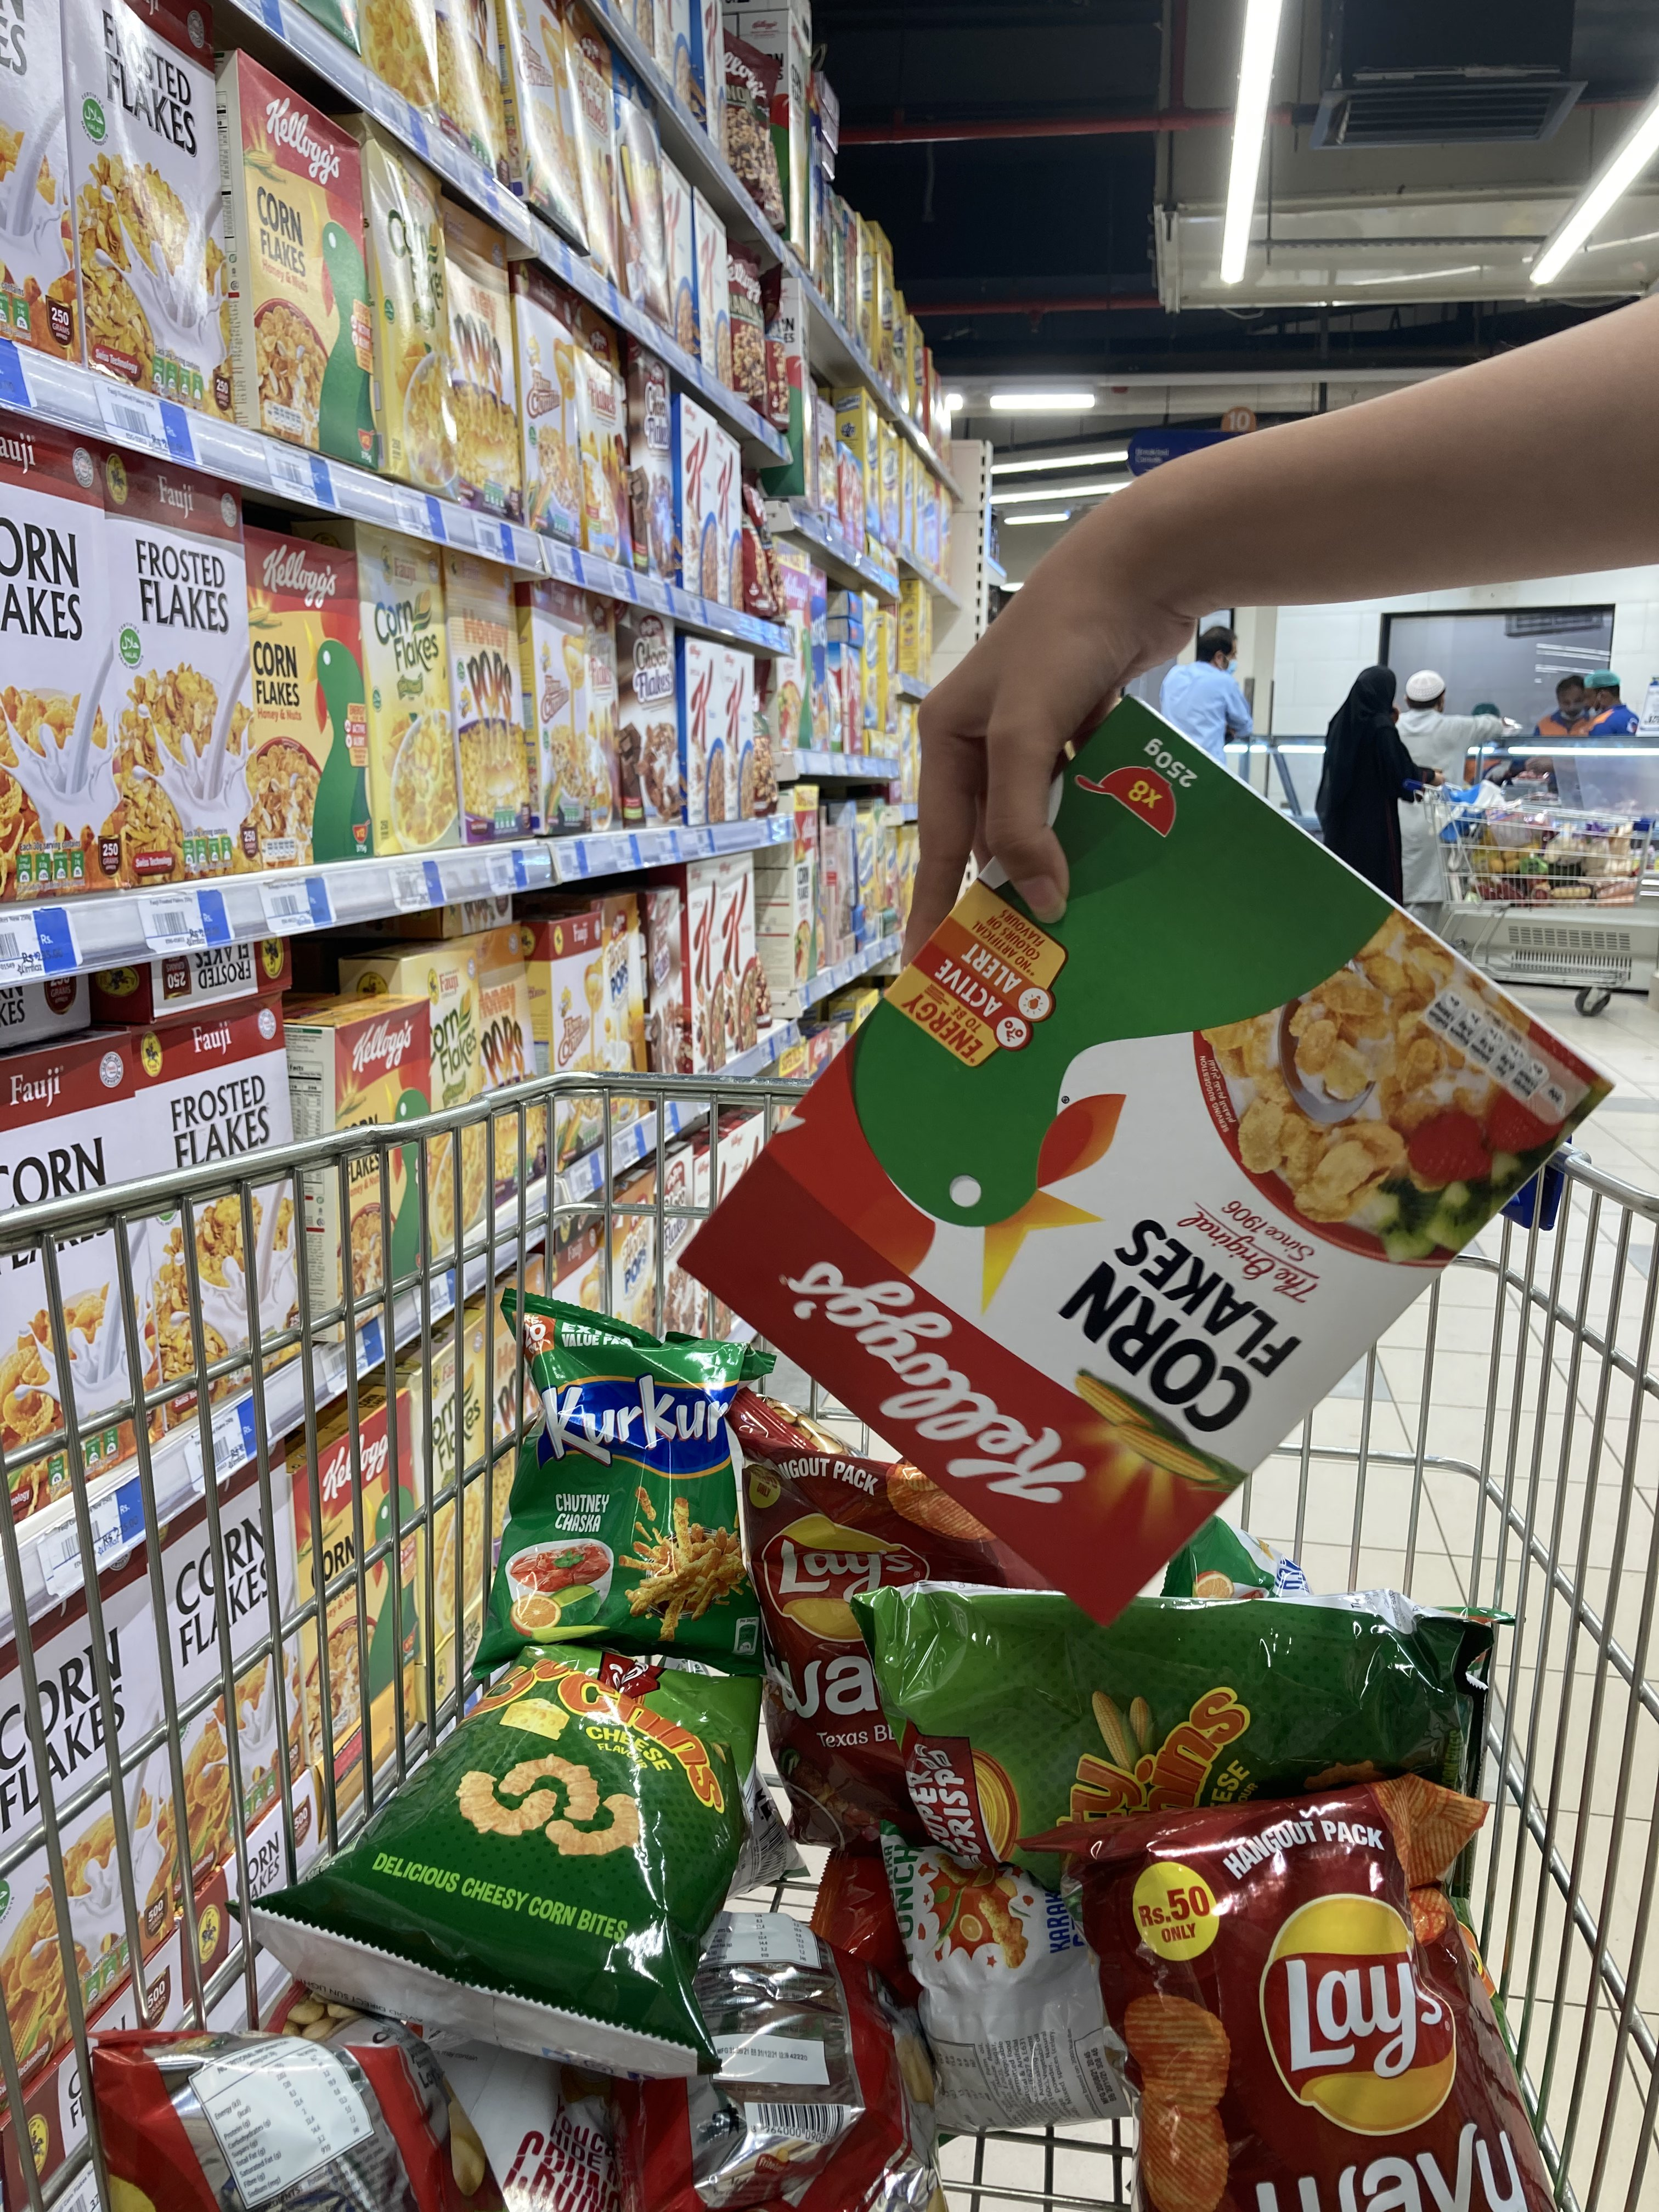Kellogg's Corn Flakes: (673, 695, 1624, 1623)
